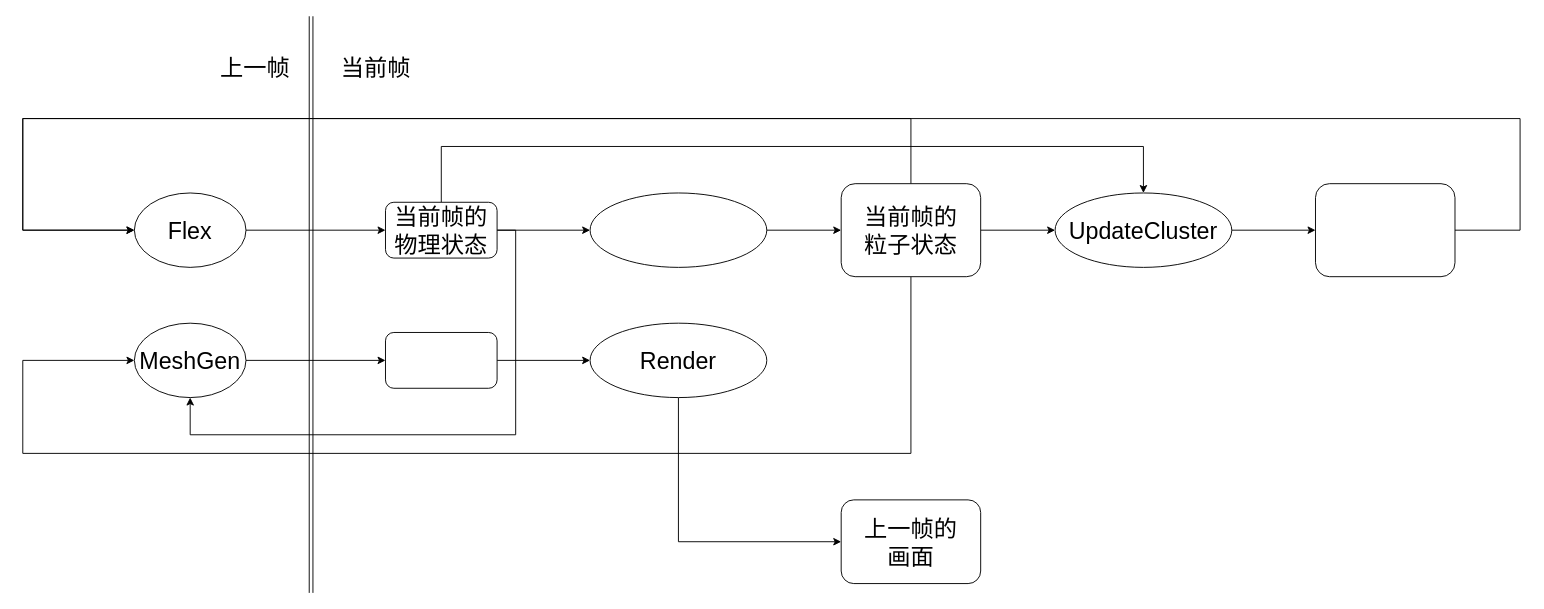
Some shapes in this 1544 by 609 pixel diagram are drawn without their labels. The shapes that lost their labels are listed below. From the top down, each one's centre as x and y in pixels, then its label:
the point at 678,229: UpdateNode
the point at 1385,230: 当前帧的 簇状态
the point at 441,360: 上一帧的mesh
